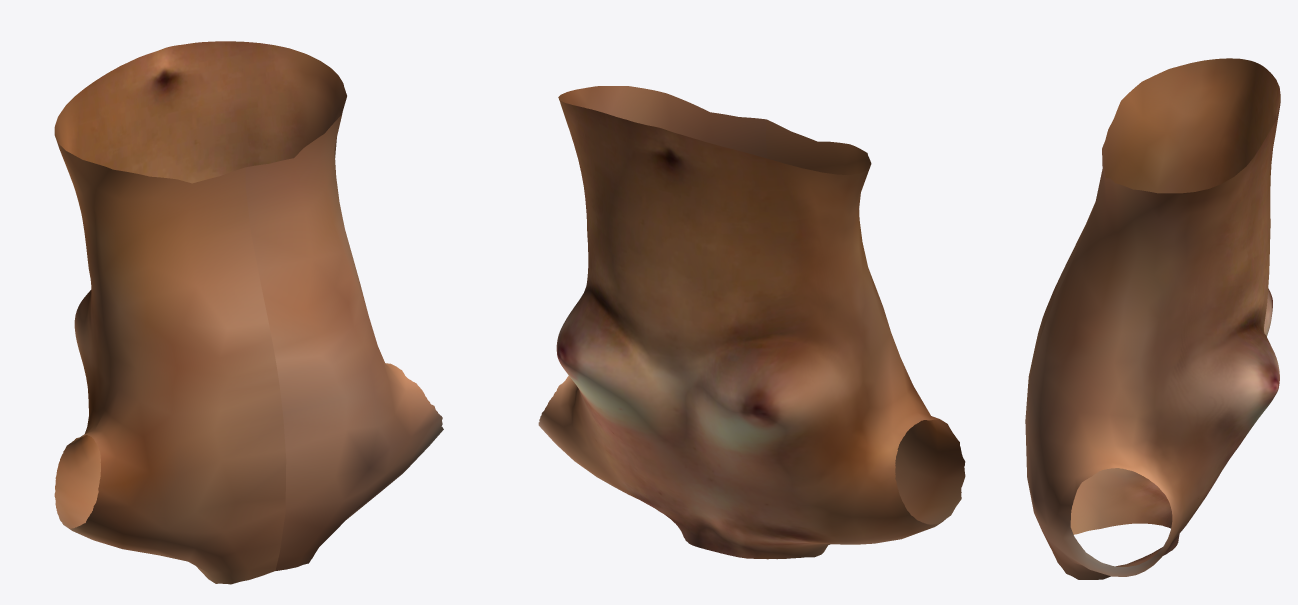
Rendered from fitModel_Demo_Augmentation.obj.
3 views of the same model, side by side, from view 1: azimuth 30°, elevation 25°; view 2: azimuth 150°, elevation 25°; view 3: azimuth 270°, elevation 25° (orthographic). The views are drawn at different scales.
Size of the model in its own units: 48.63 by 49.65 by 23.65.
1 material, 1 textured.
